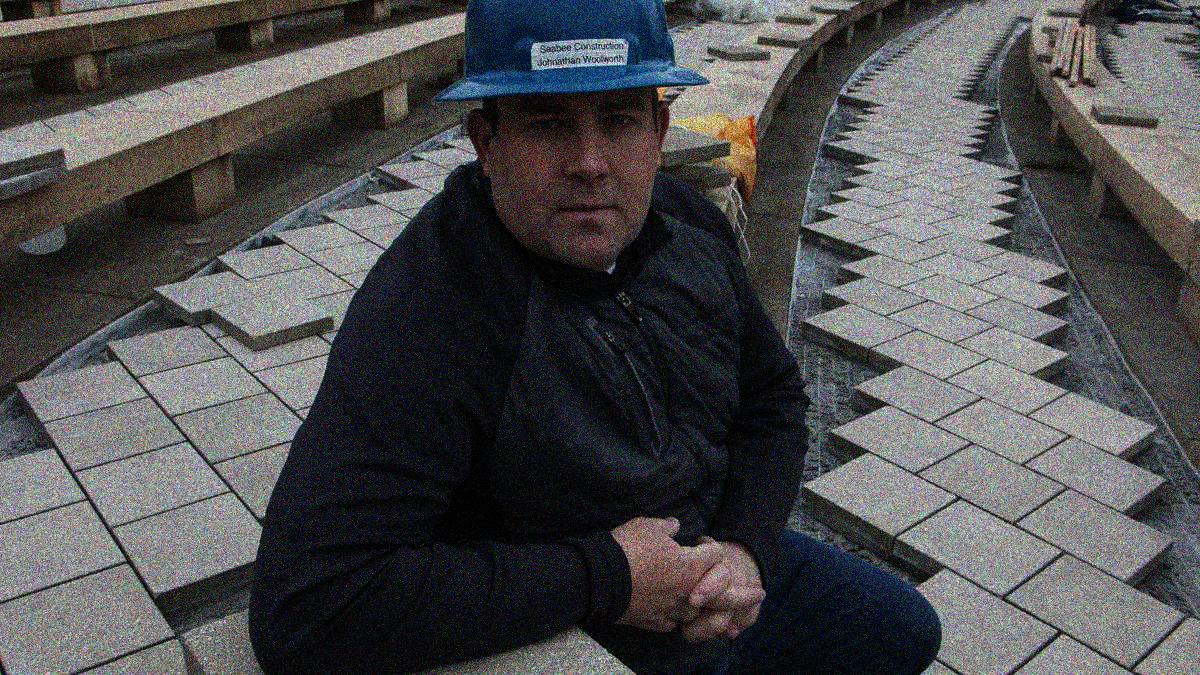helmet: (436, 1, 709, 272)
